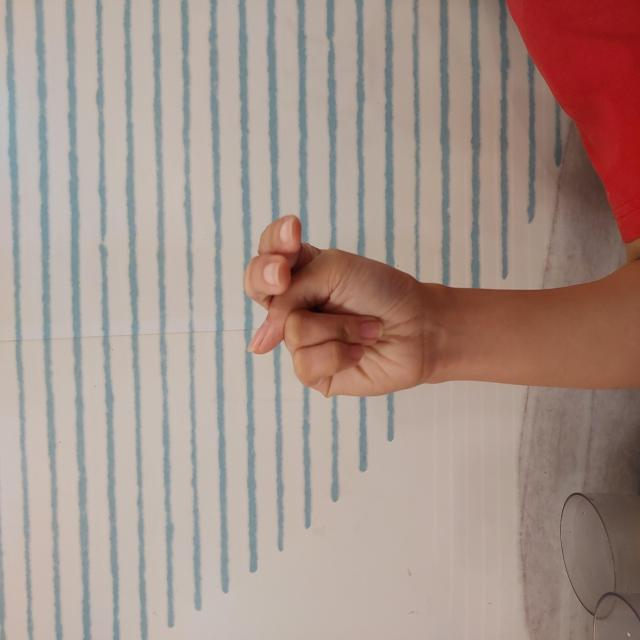N: (242, 241, 427, 428)
